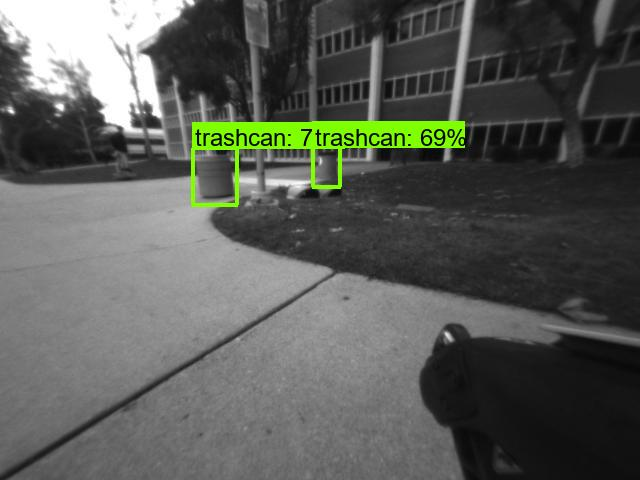trashcan: (196, 152, 236, 196), (317, 152, 337, 186)
